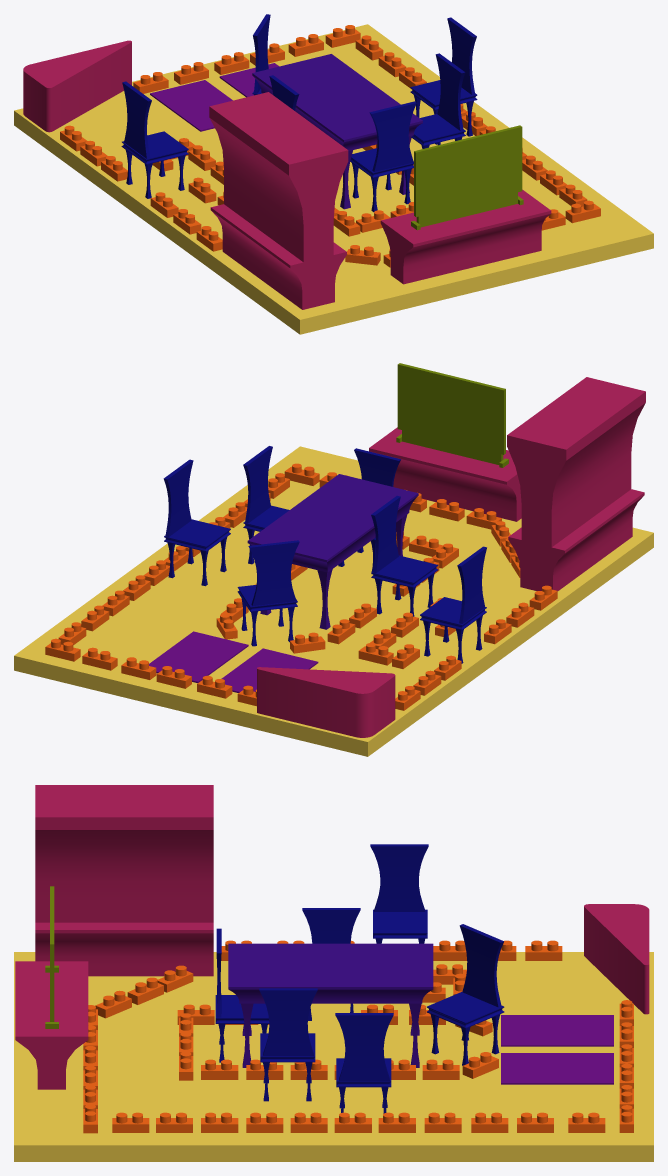
Rendered from Level Living.FBX.
3 views of the same model, one above another, from view 1: azimuth 30°, elevation 25°; view 2: azimuth 150°, elevation 25°; view 3: azimuth 270°, elevation 25° (orthographic). The views are drawn at different scales.
Parts seen in each view (by area): view 1: Piso, Mueble 1, Mueble 2, Tele, Box023, Mueble 3, Box077, Alfombra 1, Box039, Box062, Box050, Box061 (+20 smaller); view 2: Piso, Mueble 1, Tele, Mueble 3, Box023, Mueble 2, Alfombra 2, Box071, Alfombra 1, Box050, Box062, Box056 (+13 smaller); view 3: Piso, Mueble 1, Box023, Mueble 2, Mueble 3, Alfombra 1, Alfombra 2, Box062, Box039, Box050, Box071, Box056 (+28 smaller).
Part boxes in pixels (<box>): Piso: <box>14,24,653,334</box>; Mueble 1: <box>209,92,348,309</box>; Mueble 2: <box>380,189,551,284</box>; Tele: <box>411,125,523,230</box>; Box023: <box>252,54,422,151</box>; Mueble 3: <box>23,40,131,132</box>; Box077: <box>369,101,416,171</box>; Alfombra 1: <box>150,80,232,131</box>; Box039: <box>435,53,465,130</box>; Box062: <box>122,81,151,158</box>; Box050: <box>447,17,476,94</box>; Box061: <box>121,131,188,164</box>; Piso: <box>14,446,653,756</box>; Mueble 1: <box>507,377,645,590</box>; Tele: <box>396,363,508,467</box>; Mueble 3: <box>257,667,395,737</box>; Box023: <box>247,474,418,572</box>; Mueble 2: <box>369,427,521,521</box>; Alfombra 2: <box>149,631,248,683</box>; Box071: <box>248,540,299,606</box>; Alfombra 1: <box>221,648,318,692</box>; Box050: <box>163,459,193,536</box>; Box062: <box>457,546,486,623</box>; Box056: <box>371,495,400,573</box>; Piso: <box>14,952,653,1161</box>; Mueble 1: <box>35,785,213,976</box>; Box023: <box>228,943,433,1003</box>; Mueble 2: <box>15,961,88,1089</box>; Mueble 3: <box>584,904,649,1014</box>; Alfombra 1: <box>501,1015,613,1046</box>; Alfombra 2: <box>501,1053,613,1084</box>; Box062: <box>370,844,428,911</box>; Box039: <box>259,988,317,1055</box>; Box050: <box>335,1013,393,1080</box>; Box071: <box>459,924,503,1007</box>; Box056: <box>302,908,360,943</box>.
Bounding box in the file's own units: 5.02 × 2.21 × 7.
